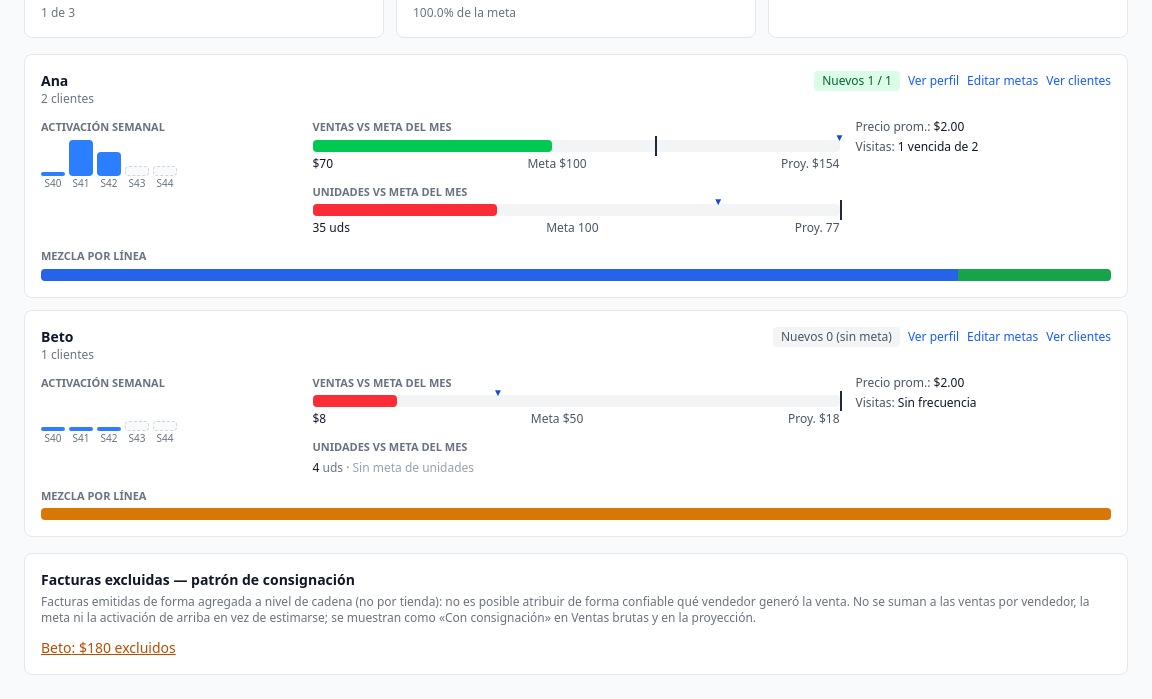
TabSeguimiento › consignment footnote lists the excluded invoices of that seller on demand
(page scrolled)
Check: the heading "Facturas excluidas — patrón de consignación" is shown, box [41, 570, 355, 589]
Click the button "Beto: $180 excluidos": click(108, 648) [41, 638, 176, 658]
(page scrolled)
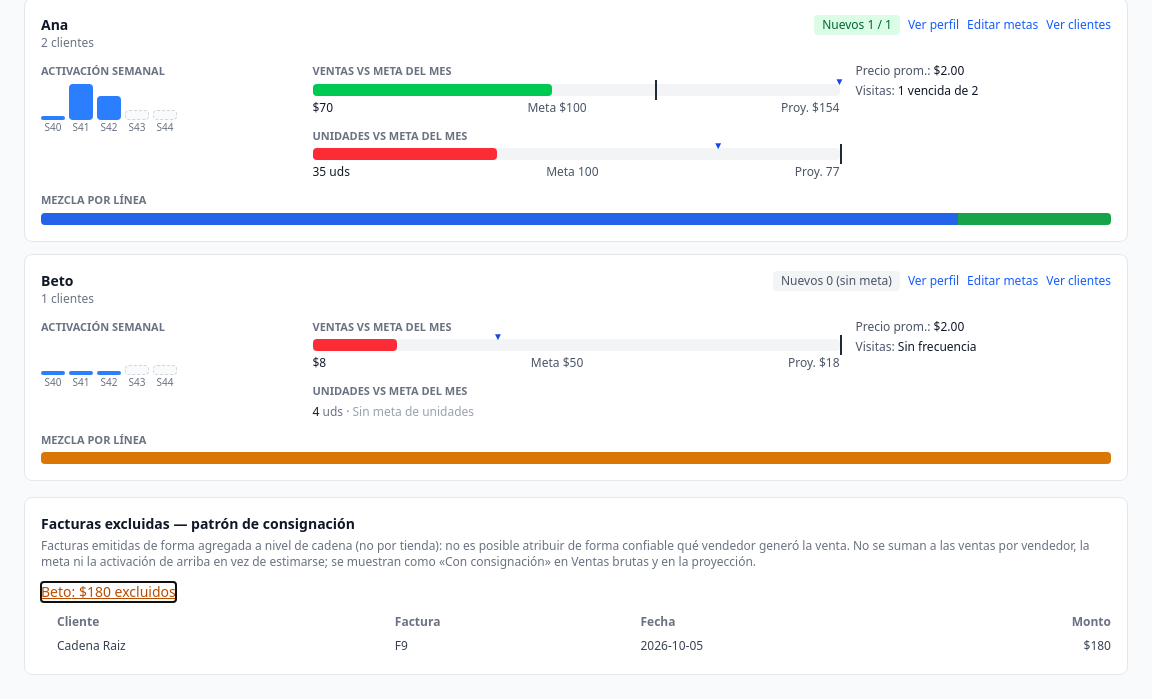
Check: the text "F9" is shown, box [395, 634, 640, 658]
